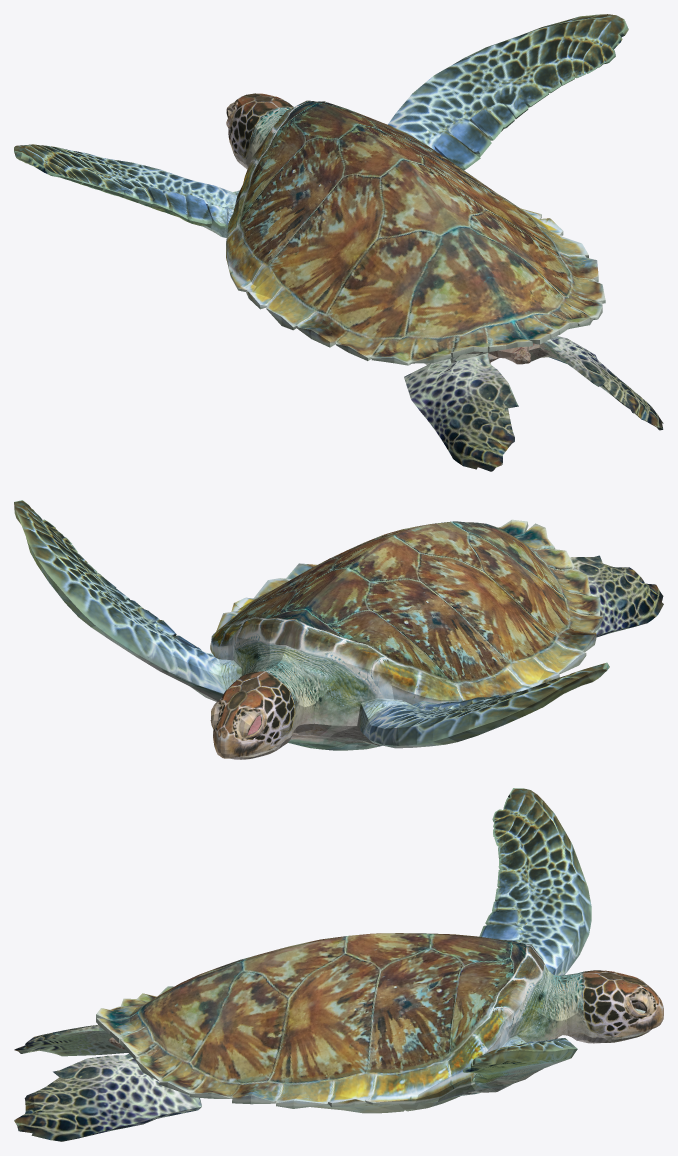
Rendered from frame_34.obj.
3 renders of one model, top to bottom at view 1: azimuth 30°, elevation 25°; view 2: azimuth 150°, elevation 25°; view 3: azimuth 270°, elevation 25°, orthographic. The views are drawn at different scales.
Visible parts, largest first — view 1: Turtle GEO Turtle; view 2: Turtle GEO Turtle; view 3: Turtle GEO Turtle.
Boxes of the visible parts, box(x1,y1,x2,y2) form: Turtle GEO Turtle: box(14, 14, 663, 471); Turtle GEO Turtle: box(14, 500, 663, 759); Turtle GEO Turtle: box(14, 788, 663, 1141).
Bounding box in the file's own units: 99.6 × 30.42 × 100.
Materials: 1 (1 with a texture image).
